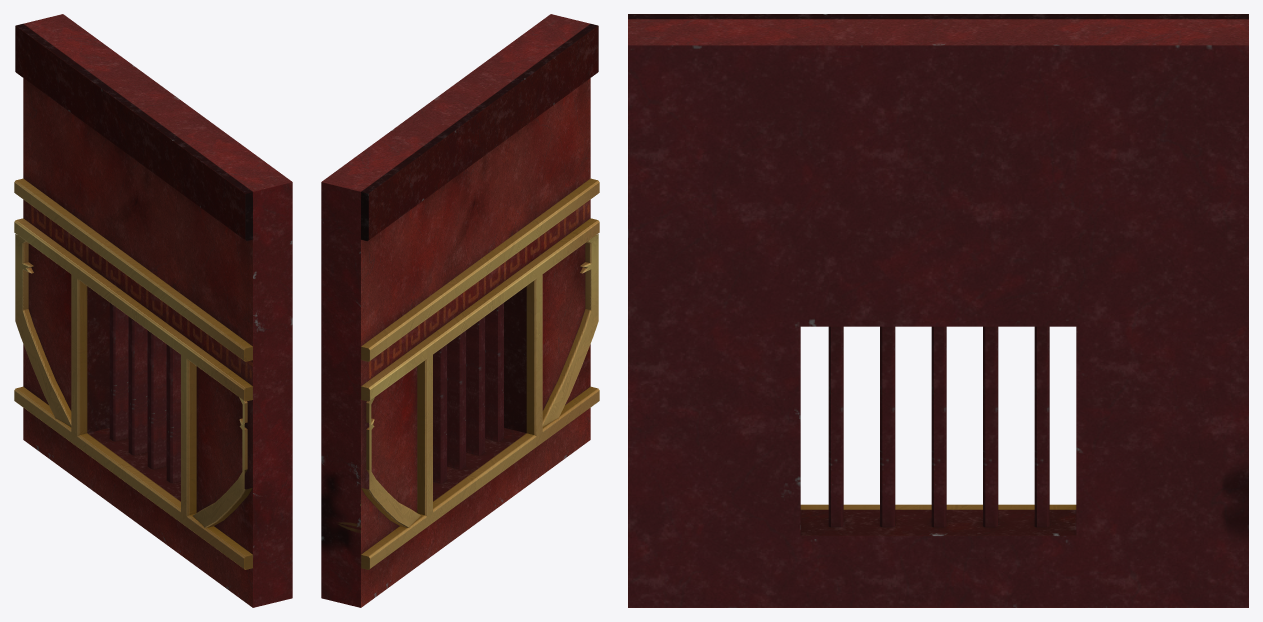
The model's file is SM_KingsTempleWall2x2_C_.glb.
3 renders of one model, left to right at view 1: azimuth 30°, elevation 25°; view 2: azimuth 150°, elevation 25°; view 3: azimuth 270°, elevation 25°, orthographic. The views are drawn at different scales.
Visible parts, largest first — view 1: SM_KingsTempleWall2x2_C__LOD0; view 2: SM_KingsTempleWall2x2_C__LOD0; view 3: SM_KingsTempleWall2x2_C__LOD0.
Boxes of the visible parts, box(x1,y1,x2,y2) form: SM_KingsTempleWall2x2_C__LOD0: box(14, 14, 292, 607); SM_KingsTempleWall2x2_C__LOD0: box(321, 14, 599, 607); SM_KingsTempleWall2x2_C__LOD0: box(628, 14, 1248, 607).
Bounding box in the file's own units: 0.2458 × 2 × 2.
1 material, 1 textured.
